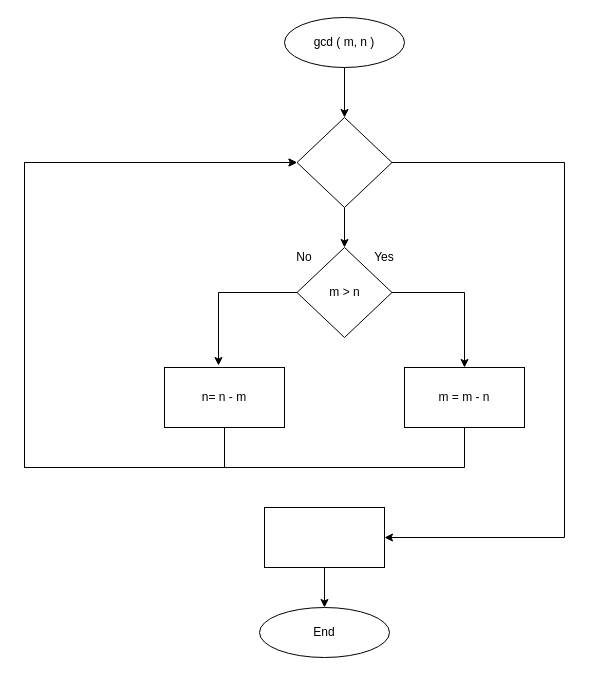
The diagram is 590 pixels wide and 675 high, and some of its shapes have lost their labels. Here are the shapes that lost their labels. From the top down, the centre of each, then its label:
pixel 344 162: while m != n
pixel 324 537: return m
